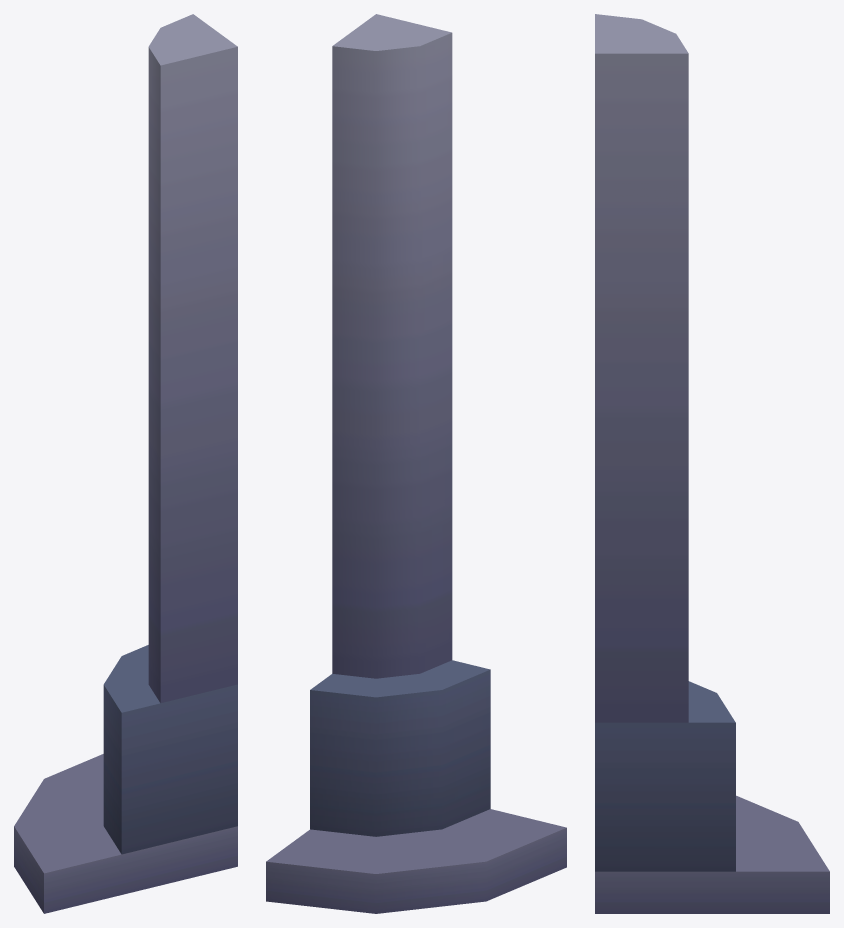
The model's file is template-wall-corner.glb.
The picture shows the model from 3 angles, left to right: view 1: azimuth 30°, elevation 25°; view 2: azimuth 150°, elevation 25°; view 3: azimuth 270°, elevation 25°; orthographic projection. The views are drawn at different scales.
Visible parts, largest first — view 1: template-wall-corner4; view 2: template-wall-corner4; view 3: template-wall-corner4.
Boxes of the visible parts, box(x1,y1,x2,y2) form: template-wall-corner4: box(14, 14, 237, 913); template-wall-corner4: box(266, 14, 566, 913); template-wall-corner4: box(595, 14, 829, 913).
Bounding box in the file's own units: 1 × 4.05 × 1.
Materials: 1 (1 with a texture image).
